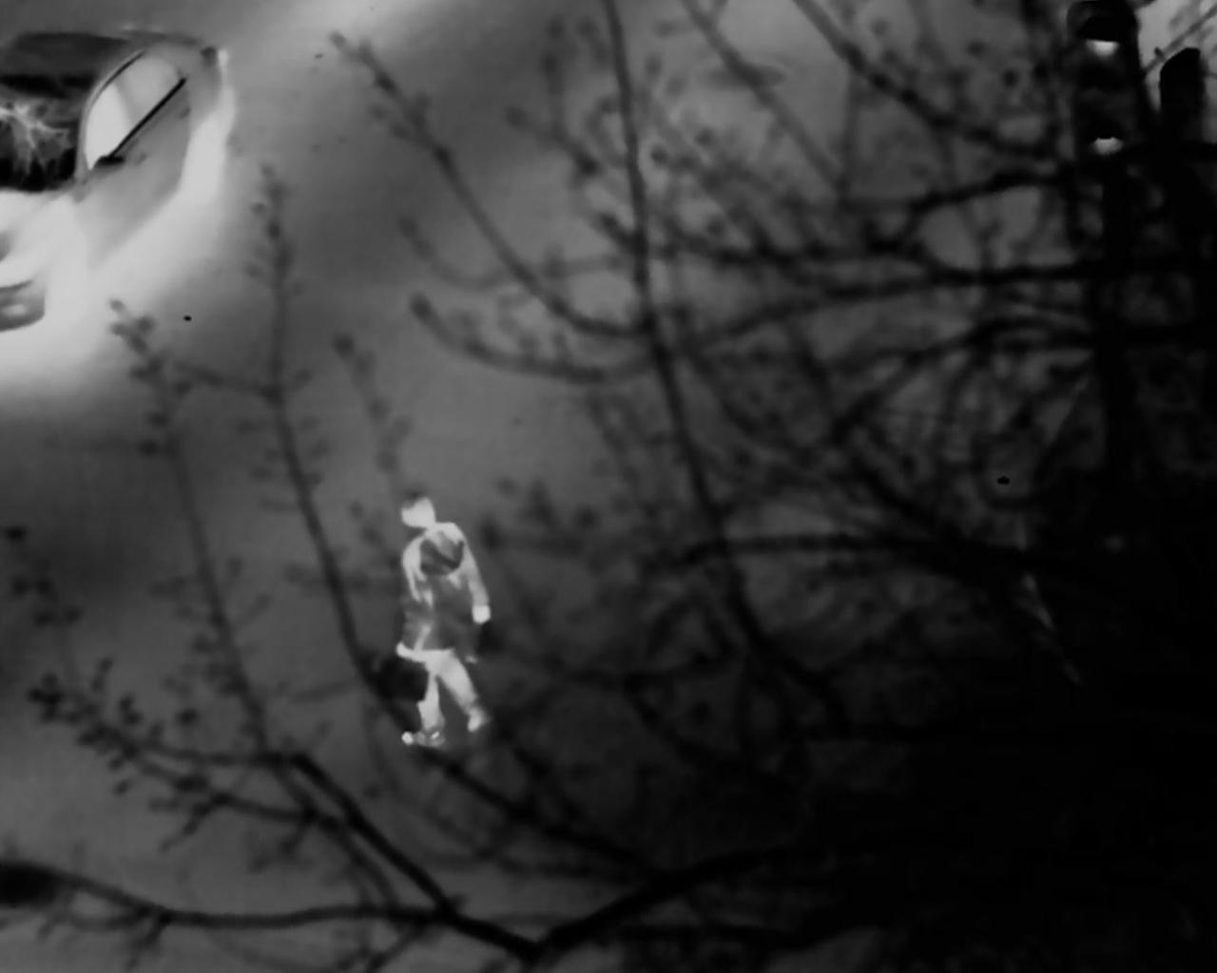person: (384, 494, 502, 750)
